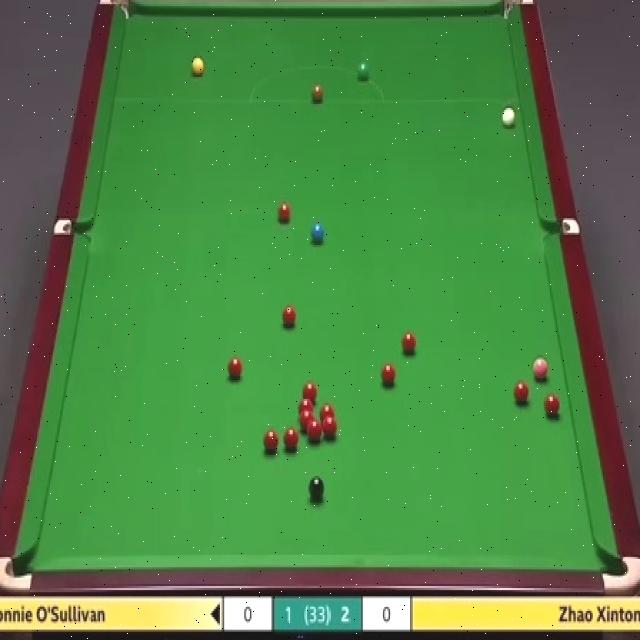black-ball: (308, 475, 324, 502)
blue-ball: (310, 222, 324, 241)
brown-ball: (310, 86, 324, 102)
green-ball: (359, 66, 372, 86)
pink-ball: (532, 357, 550, 383)
red-ball: (512, 378, 532, 406), (280, 306, 300, 331), (543, 392, 560, 416), (307, 420, 322, 445), (322, 416, 339, 438), (264, 429, 280, 452), (277, 200, 292, 224), (380, 364, 395, 386), (284, 427, 298, 450), (227, 358, 243, 378), (304, 381, 316, 404), (403, 333, 416, 354), (298, 413, 312, 432), (320, 404, 334, 422), (299, 402, 312, 418)
white-ball: (501, 104, 515, 127)
yellow-ball: (191, 56, 204, 78)
